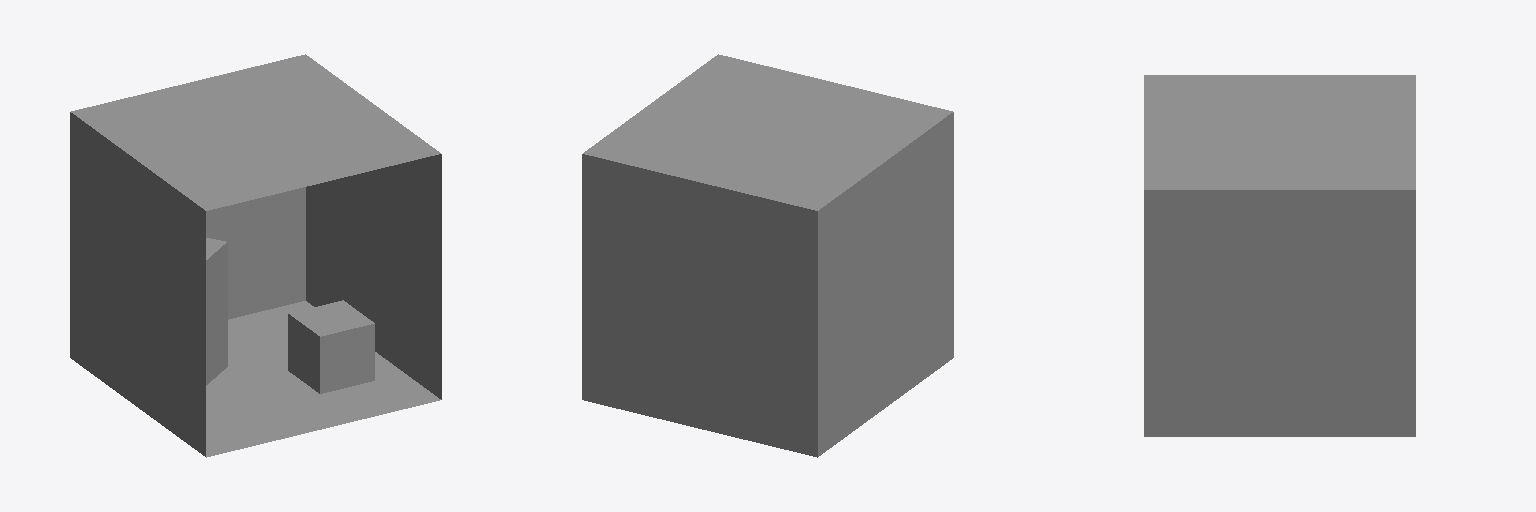
Rendered from cornellSplit3.obj.
3 views of the same model, side by side, from view 1: azimuth 30°, elevation 25°; view 2: azimuth 150°, elevation 25°; view 3: azimuth 270°, elevation 25° (orthographic).
Visible parts, largest first — view 1: GreenWall, Roof, BlueWall, Floor, RedWall, RightBox, LeftBox; view 2: RedWall, GreenWall, Roof; view 3: BlueWall, Roof.
Part boxes in pixels (left/top/right/bottom): GreenWall: left=70, top=112, right=205, bottom=456; Roof: left=71, top=54, right=440, bottom=210; BlueWall: left=306, top=154, right=441, bottom=399; Floor: left=206, top=301, right=440, bottom=457; RedWall: left=206, top=187, right=305, bottom=319; RightBox: left=288, top=300, right=374, bottom=393; LeftBox: left=206, top=238, right=227, bottom=385; RedWall: left=582, top=154, right=817, bottom=457; GreenWall: left=818, top=112, right=953, bottom=456; Roof: left=583, top=54, right=952, bottom=210; BlueWall: left=1144, top=190, right=1415, bottom=436; Roof: left=1144, top=75, right=1415, bottom=189.
Size of the model in its own units: 2 by 2 by 2.